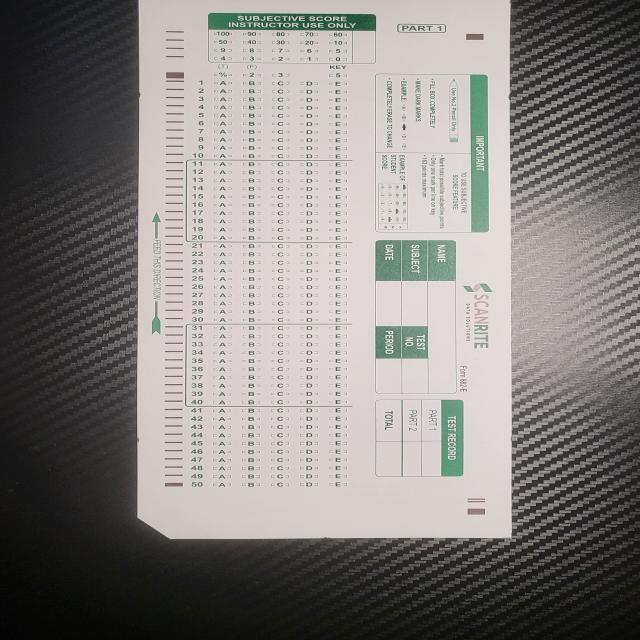scantron: (136, 2, 512, 539)
